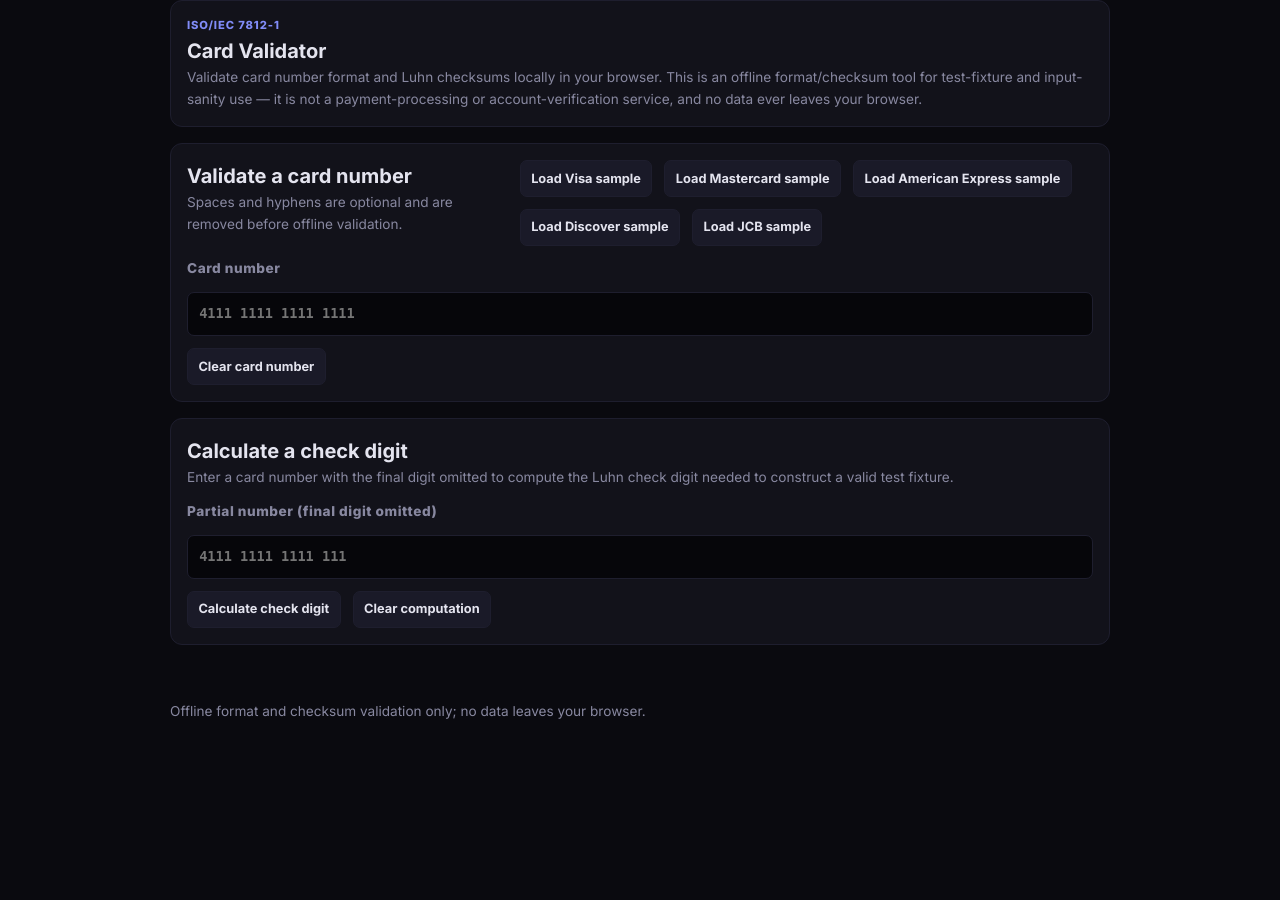
Scenario: CardTool › loads an American Express sample and formats it 4-6-5
Click the button "Load American Express sample": click(962, 179) top-left (853, 160), bottom-right (1072, 197)
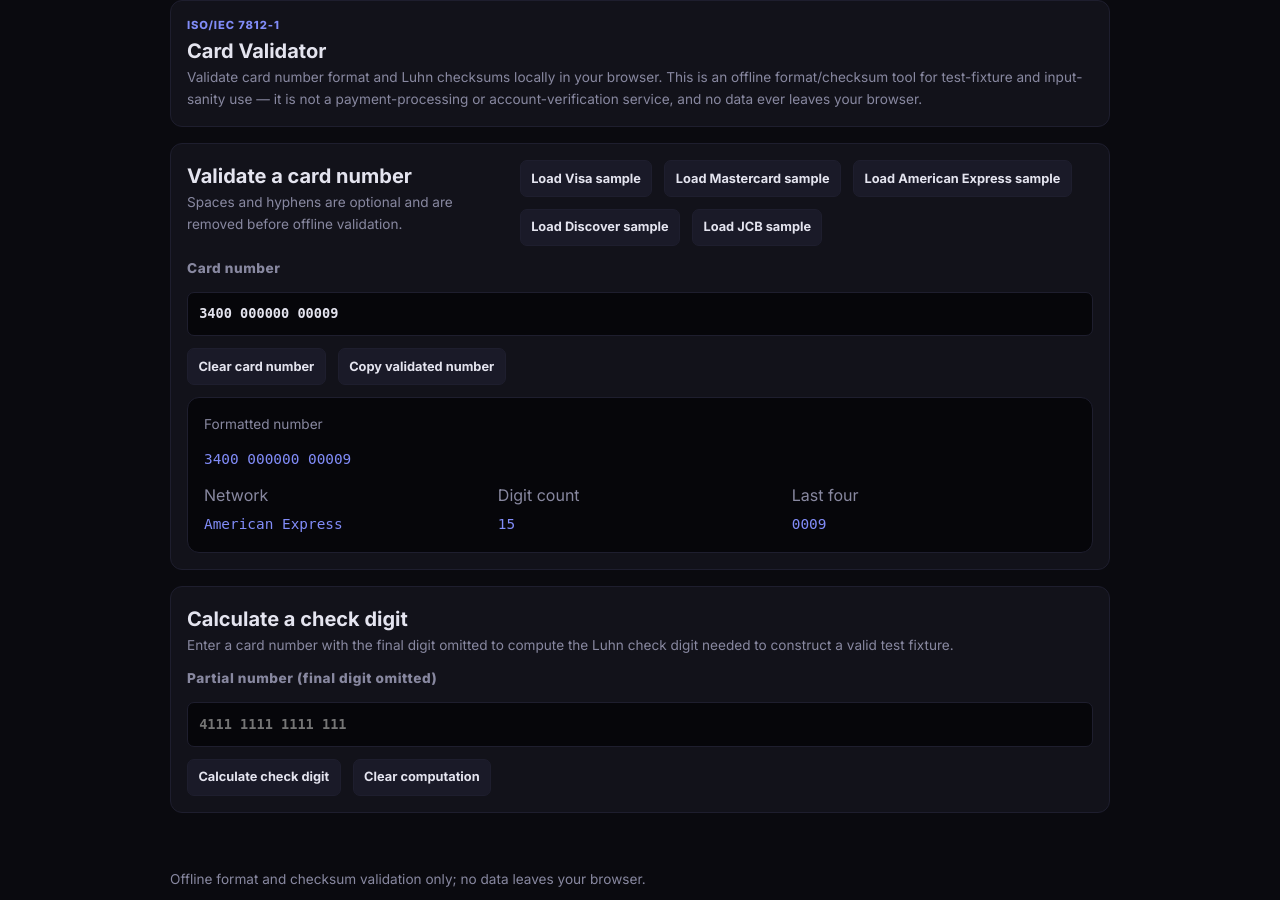
Expected: the text "3400 000000 00009" is shown, top-left (204, 451), bottom-right (351, 467)
Expected: the text "American Express" is shown, top-left (204, 516), bottom-right (343, 532)
